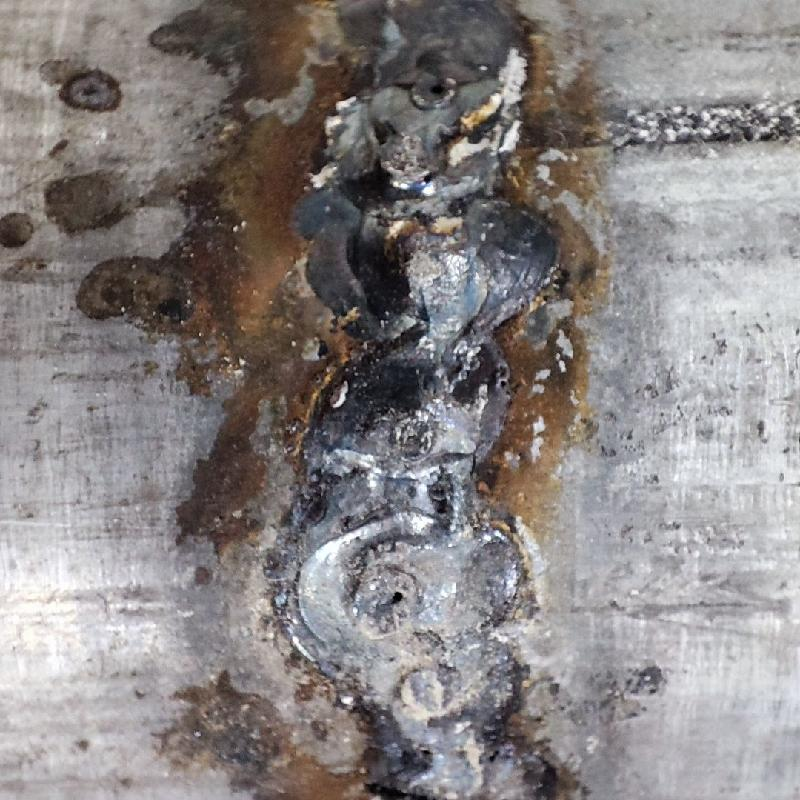Surface_pores: (403, 65, 463, 114)
wrong_size: (317, 4, 552, 487)
